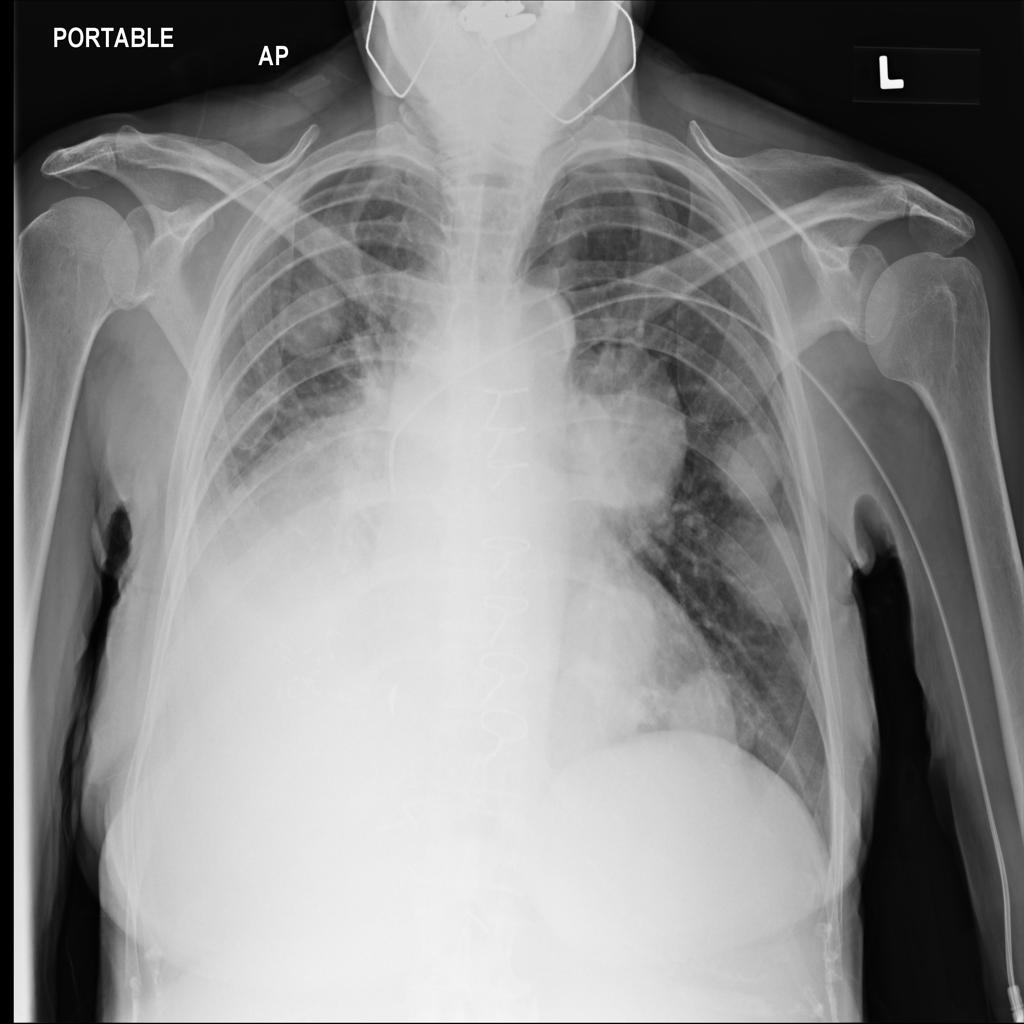nodule: (540, 333, 708, 545), (712, 498, 824, 633), (656, 658, 757, 781), (261, 261, 359, 371), (704, 408, 799, 514)
